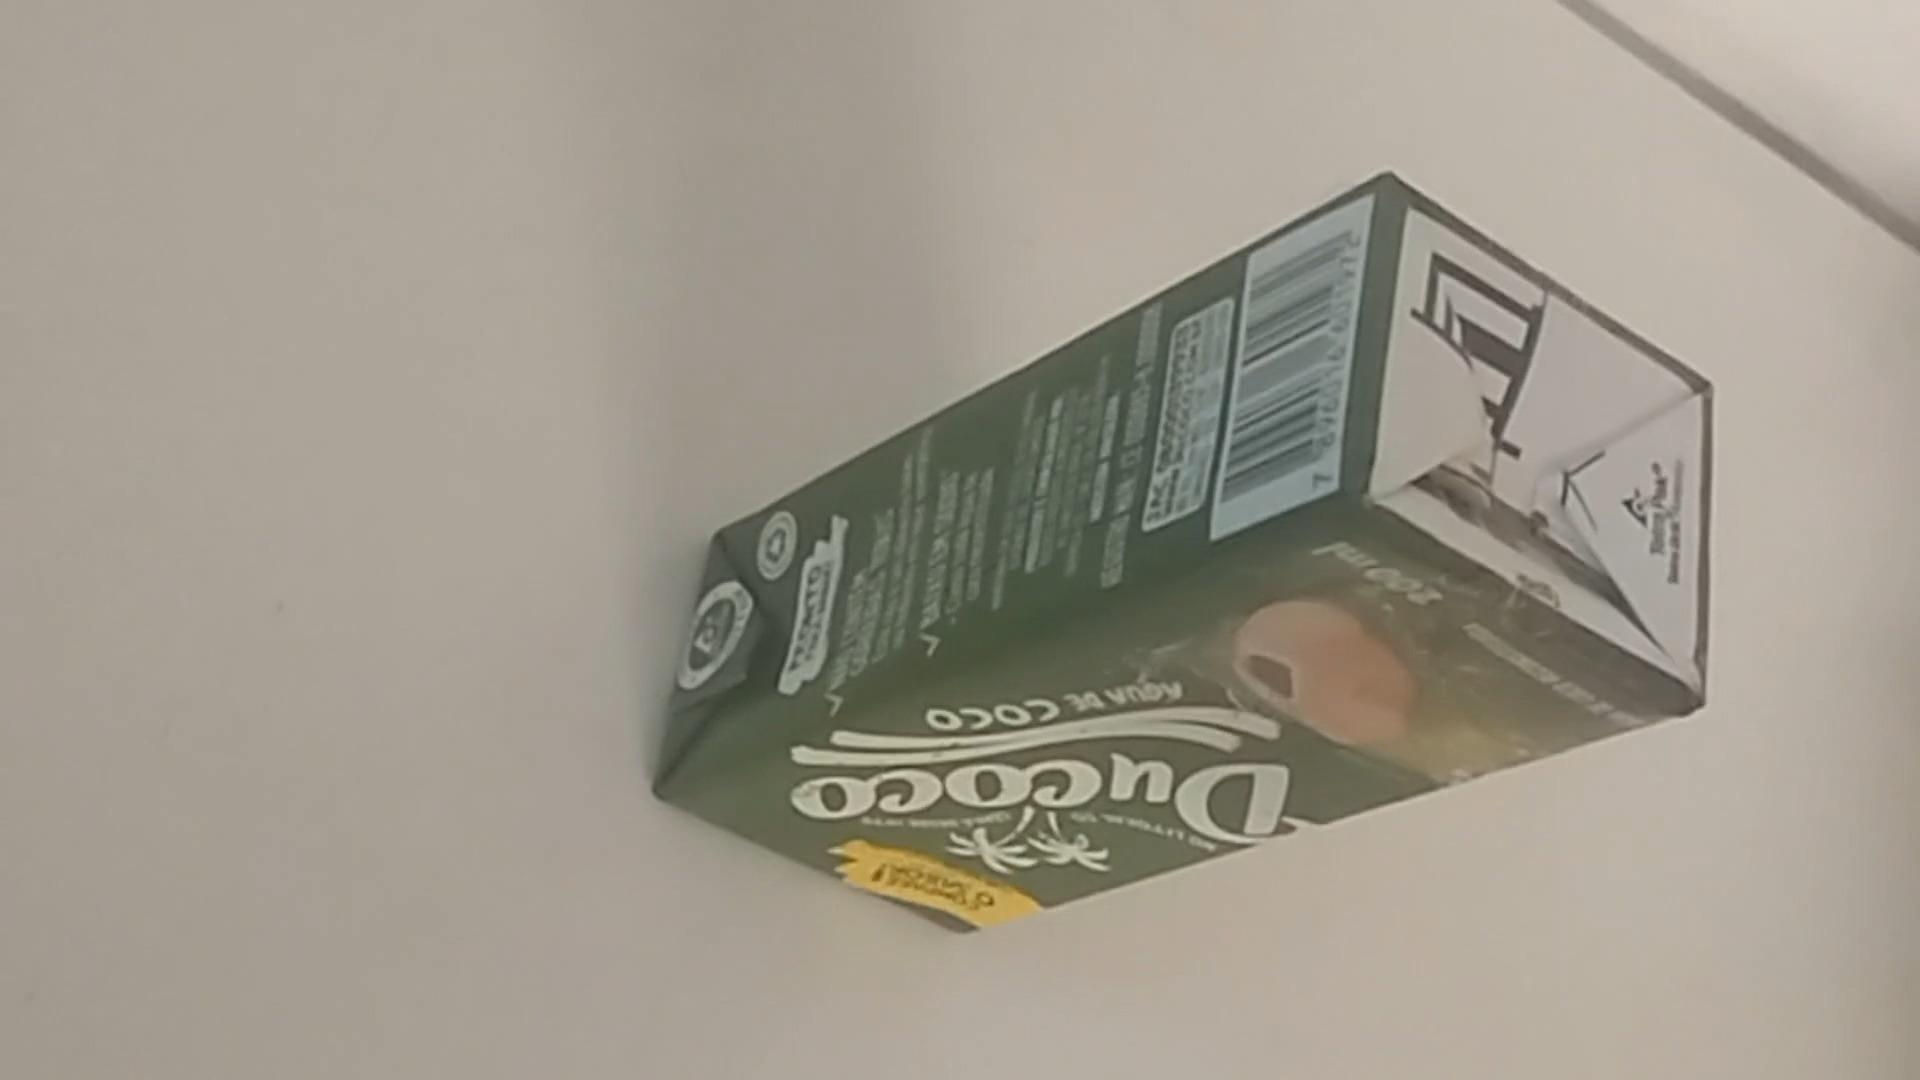coco: (662, 174, 1713, 930)
